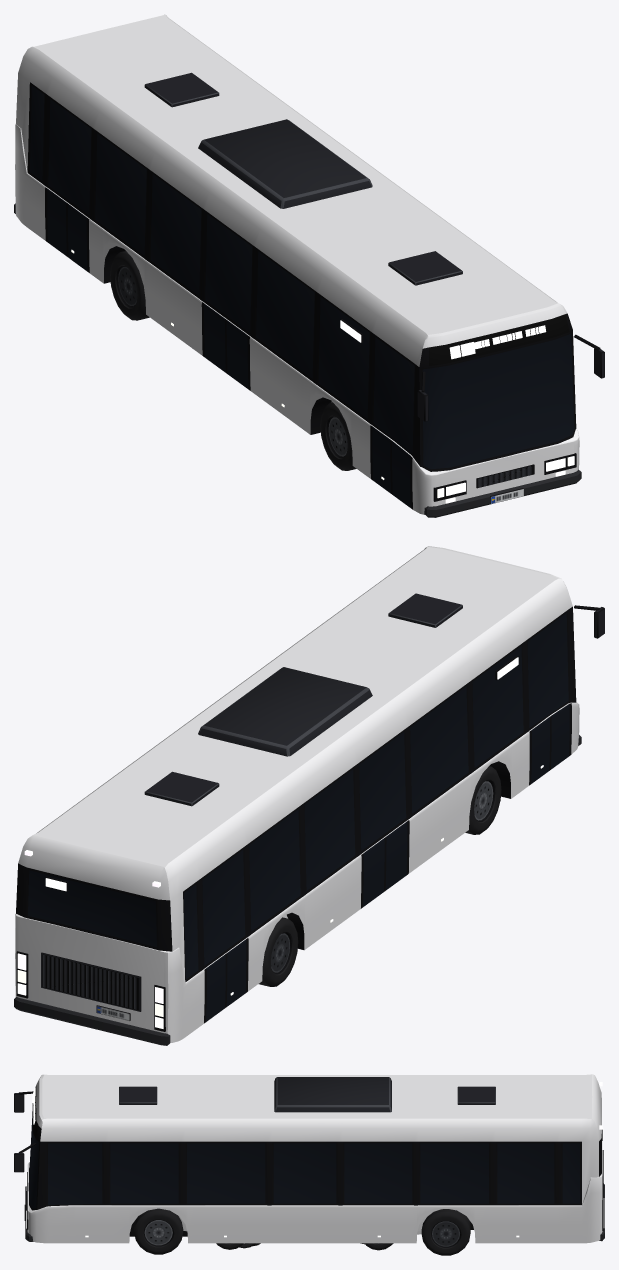
The model's file is traffic.glb.
3 views of the same model, one above another, from view 1: azimuth 30°, elevation 25°; view 2: azimuth 150°, elevation 25°; view 3: azimuth 270°, elevation 25° (orthographic). The views are drawn at different scales.
Parts seen in each view (by area): view 1: tr_bus; view 2: tr_bus; view 3: tr_bus, tr_gazelle.
Boxes of the visible parts, x1,y1,x2,y2 form: tr_bus: (14,14,604,517); tr_bus: (14,546,604,1045); tr_bus: (14,1074,604,1255); tr_gazelle: (178,1208,447,1250).
Size of the model in its own units: 2.83 by 2.99 by 11.52.
Materials: 4 (1 with a texture image).
